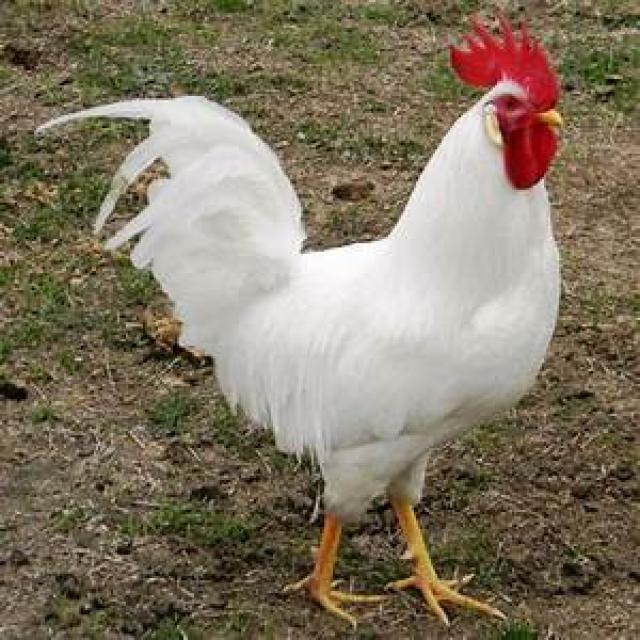hen: (38, 22, 560, 621)
